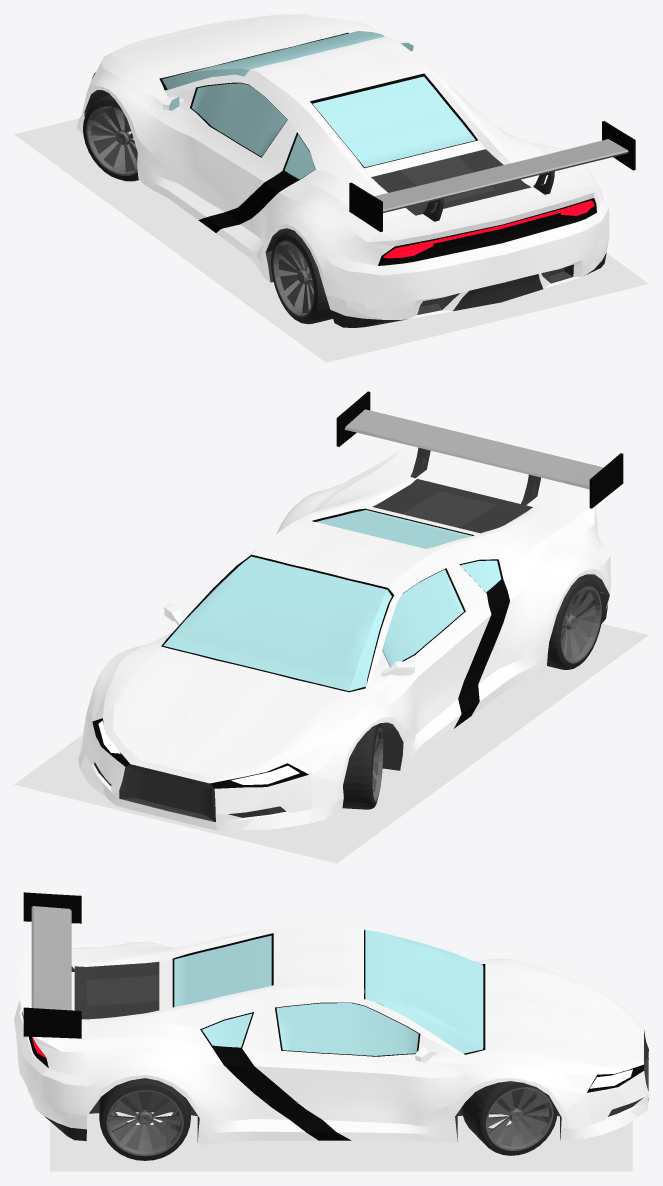
The picture shows the model from 3 angles, top to bottom: view 1: azimuth 30°, elevation 25°; view 2: azimuth 150°, elevation 25°; view 3: azimuth 270°, elevation 25°; orthographic projection. The views are drawn at different scales.
Parts seen in each view (by area): view 1: prowler_chassis_gt3.004, shadowCatcher.004, prowler_gt3_spoiler.004, bkup_mirrored.052, bkup_mirrored.050; view 2: prowler_chassis_gt3.004, shadowCatcher.004, prowler_gt3_spoiler.004, bkup_mirrored.052, bkup_mirrored.050; view 3: prowler_chassis_gt3.004, shadowCatcher.004, prowler_gt3_spoiler.004, bkup_mirrored.051, bkup_mirrored.049.
Boxes of the visible parts, x1,y1,x2,y2 form: prowler_chassis_gt3.004: [77, 14, 609, 327]; shadowCatcher.004: [14, 118, 648, 362]; prowler_gt3_spoiler.004: [349, 121, 635, 231]; bkup_mirrored.052: [271, 230, 332, 324]; bkup_mirrored.050: [83, 93, 138, 181]; prowler_chassis_gt3.004: [78, 450, 610, 830]; shadowCatcher.004: [14, 623, 648, 863]; prowler_gt3_spoiler.004: [336, 391, 623, 508]; bkup_mirrored.052: [547, 576, 603, 669]; bkup_mirrored.050: [342, 723, 383, 809]; prowler_chassis_gt3.004: [14, 926, 648, 1144]; shadowCatcher.004: [50, 1112, 632, 1171]; prowler_gt3_spoiler.004: [23, 892, 81, 1038]; bkup_mirrored.051: [99, 1078, 190, 1160]; bkup_mirrored.049: [461, 1081, 557, 1155].
Size of the model in its own units: 3.45 by 1.67 by 6.29.
